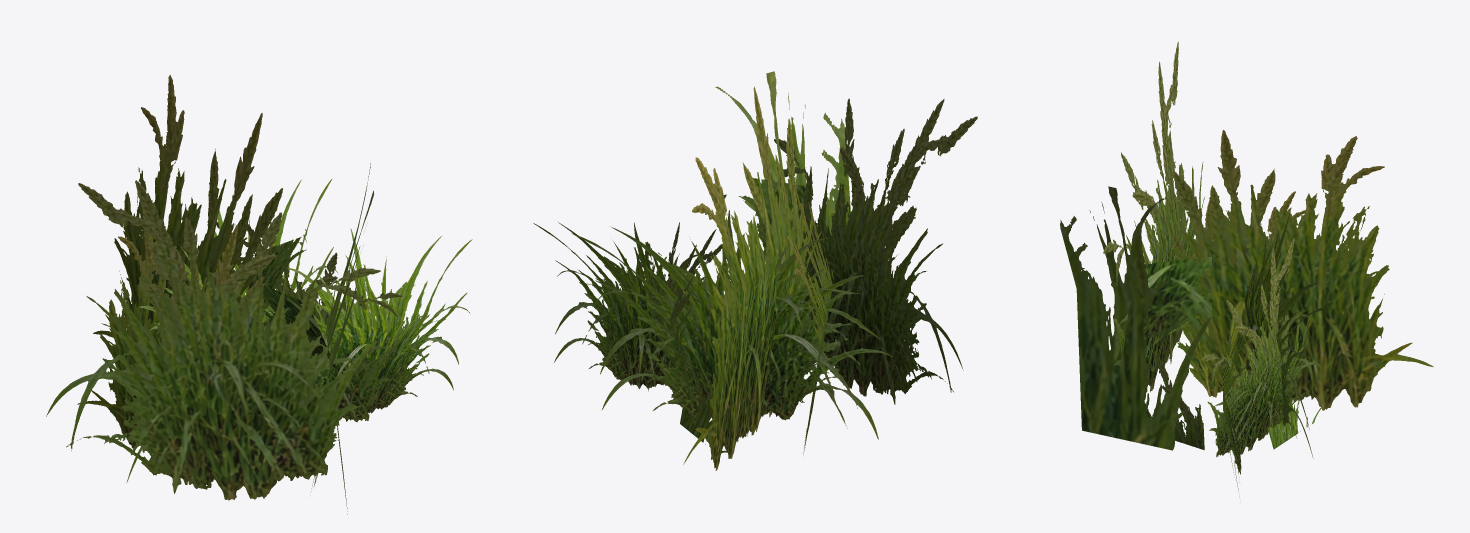
The model's file is grass_0.fbx.
3 views of the same model, side by side, from view 1: azimuth 30°, elevation 25°; view 2: azimuth 150°, elevation 25°; view 3: azimuth 270°, elevation 25° (orthographic). The views are drawn at different scales.
Parts seen in each view (by area): view 1: grass_0; view 2: grass_0; view 3: grass_0.
Part boxes in pixels (x1,y1,x2,y2): grass_0: (46, 75, 472, 514); grass_0: (533, 71, 977, 470); grass_0: (1060, 41, 1433, 497).
Size of what is drawn, in the model's own units: 1.22 by 0.8547 by 1.01.
Materials: 1 (1 with a texture image).
